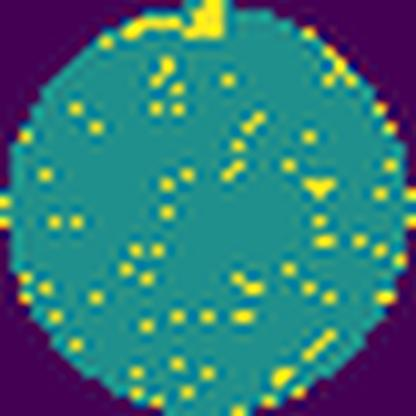Loc: (184, 0, 226, 42)
